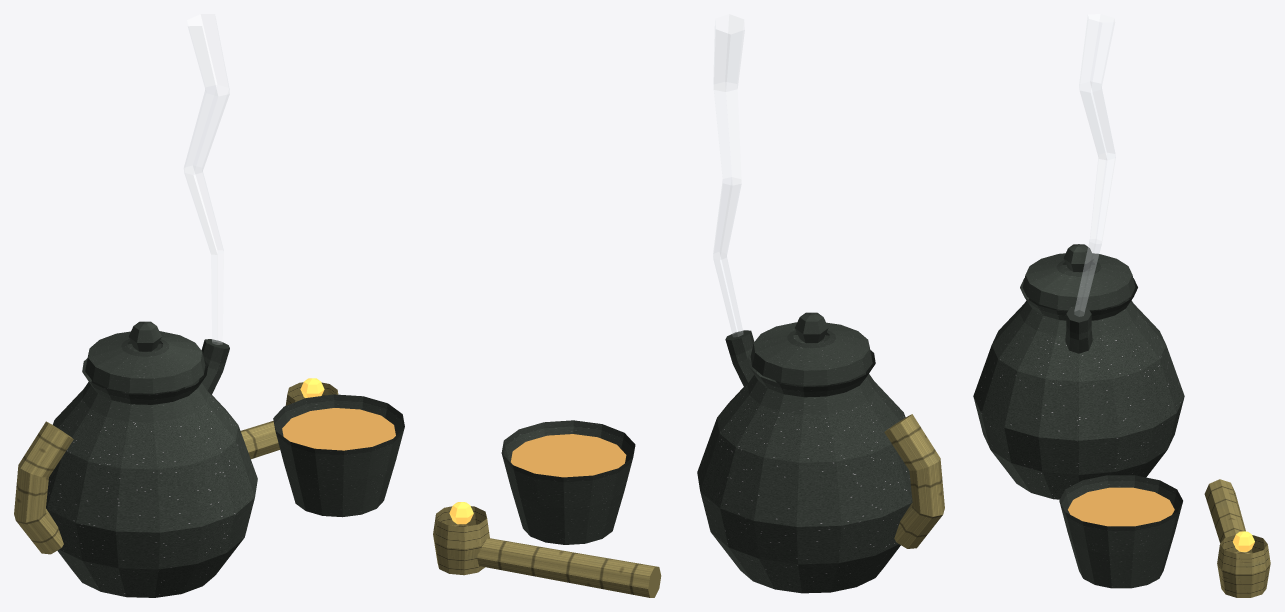
Rendered from ong-dieu-binh-tra.glb.
The picture shows the model from 3 angles, left to right: view 1: azimuth 30°, elevation 25°; view 2: azimuth 150°, elevation 25°; view 3: azimuth 270°, elevation 25°; orthographic projection. The views are drawn at different scales.
Parts seen in each view (by area): view 1: Teapot, TeaCup, SmokeWisp, TeapotLid, TeapotHandle, TeaSurface, TeapotSpout, PipeStem, TeapotKnob; view 2: Teapot, TeaCup, SmokeWisp, TeapotLid, PipeStem, TeapotHandle, TeaSurface, PipeBowl, TeapotSpout, TeapotKnob; view 3: Teapot, TeaCup, SmokeWisp, TeapotLid, TeaSurface, PipeBowl, PipeStem, TeapotSpout, TeapotKnob.
Boxes of the visible parts, bbox=[...] form: Teapot: bbox=[46, 343, 257, 597]; TeaCup: bbox=[273, 394, 404, 517]; SmokeWisp: bbox=[184, 14, 229, 344]; TeapotLid: bbox=[85, 331, 205, 393]; TeapotHandle: bbox=[14, 421, 73, 554]; TeaSurface: bbox=[282, 408, 395, 450]; TeapotSpout: bbox=[180, 339, 229, 394]; PipeStem: bbox=[240, 421, 279, 459]; TeapotKnob: bbox=[128, 321, 161, 351]; Teapot: bbox=[697, 335, 912, 593]; TeaCup: bbox=[501, 420, 635, 544]; SmokeWisp: bbox=[713, 14, 744, 336]; TeapotLid: bbox=[750, 322, 872, 385]; PipeStem: bbox=[477, 538, 661, 597]; TeapotHandle: bbox=[884, 414, 944, 548]; TeaSurface: bbox=[511, 434, 626, 477]; PipeBowl: bbox=[433, 506, 489, 575]; TeapotSpout: bbox=[725, 330, 776, 386]; TeapotKnob: bbox=[795, 312, 828, 343]; Teapot: bbox=[973, 265, 1184, 499]; TeaCup: bbox=[1059, 475, 1182, 588]; SmokeWisp: bbox=[1074, 14, 1115, 316]; TeapotLid: bbox=[1022, 253, 1135, 310]; TeaSurface: bbox=[1068, 487, 1174, 526]; PipeBowl: bbox=[1217, 535, 1270, 597]; PipeStem: bbox=[1204, 479, 1250, 553]; TeapotSpout: bbox=[1065, 305, 1092, 353]; TeapotKnob: bbox=[1063, 244, 1094, 272].
Size of the model in its own units: 0.3117 by 0.3824 by 0.211.
Materials: 5 (2 with a texture image).
